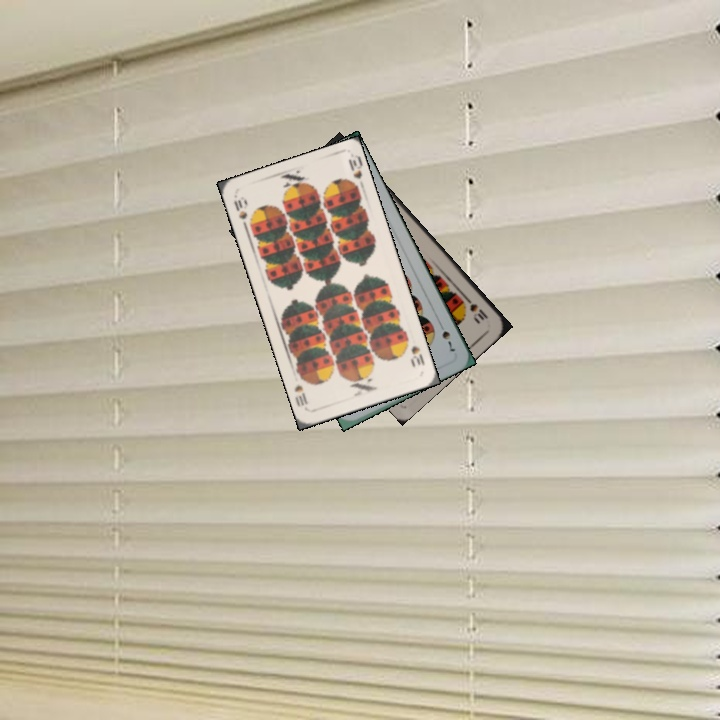S10: (401, 334, 427, 370), (461, 292, 491, 323), (230, 193, 250, 222)
S7: (435, 318, 458, 356)
